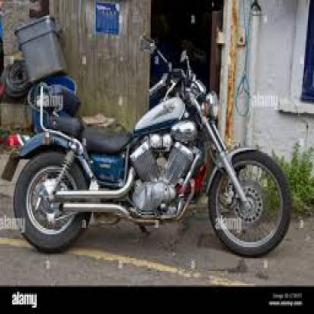Motocicleta: (4, 46, 298, 258)
